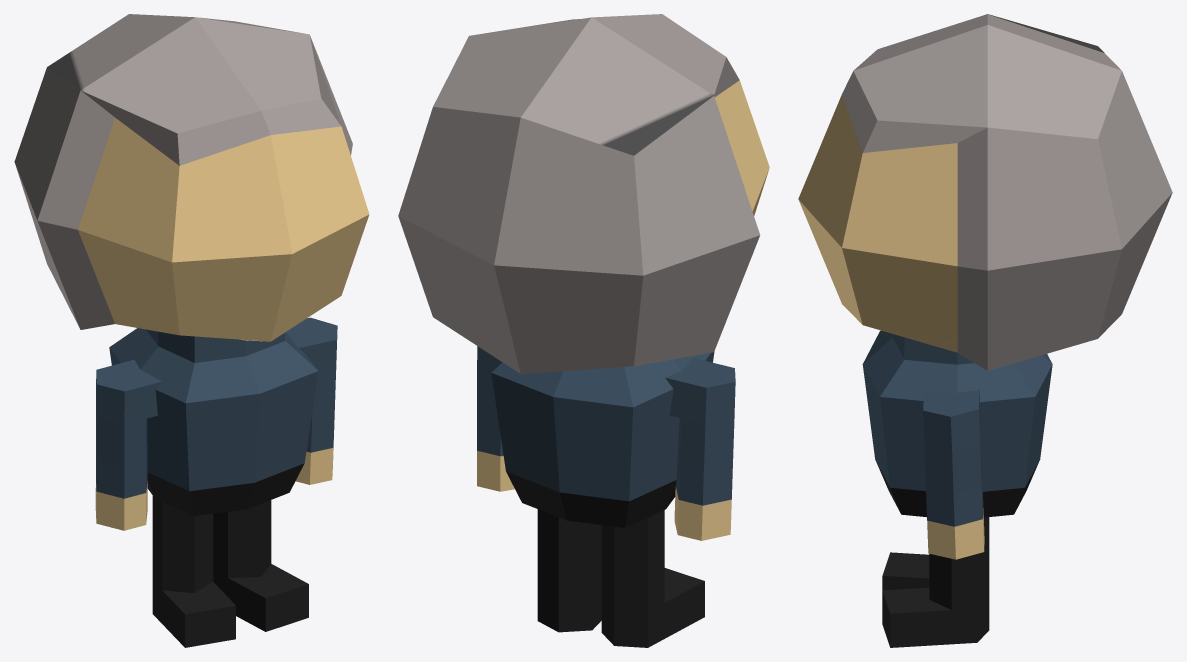
File: EINSTEIN - objeto único - v01.glb
The picture shows the model from 3 angles, left to right: view 1: azimuth 30°, elevation 25°; view 2: azimuth 150°, elevation 25°; view 3: azimuth 270°, elevation 25°; orthographic projection. The views are drawn at different scales.
Visible parts, largest first — view 1: Cube.010; view 2: Cube.010; view 3: Cube.010.
Boxes of the visible parts, box(x1,y1,x2,y2) form: Cube.010: box(14, 14, 369, 647); Cube.010: box(398, 14, 769, 647); Cube.010: box(798, 14, 1172, 647).
Bounding box in the file's own units: 0.6007 × 1.06 × 0.6079.
1 material, 1 textured.
